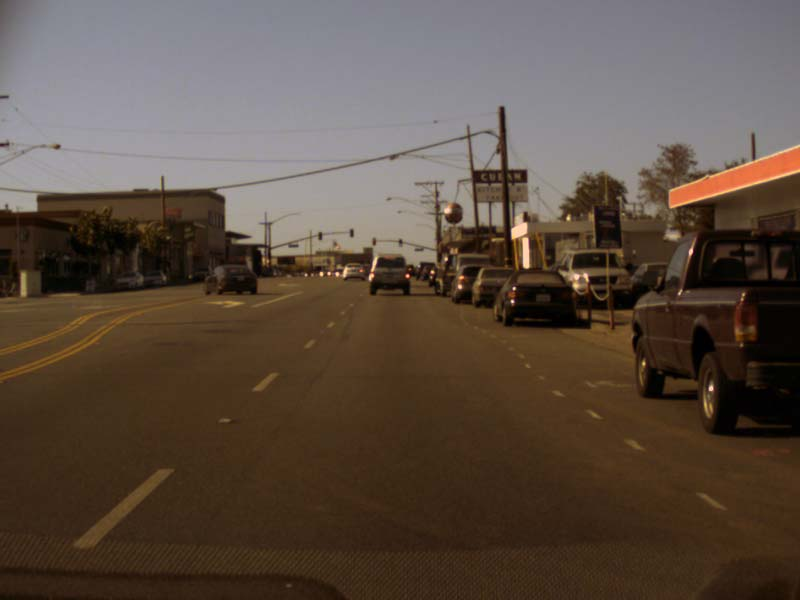Red: (372, 237, 375, 245)
